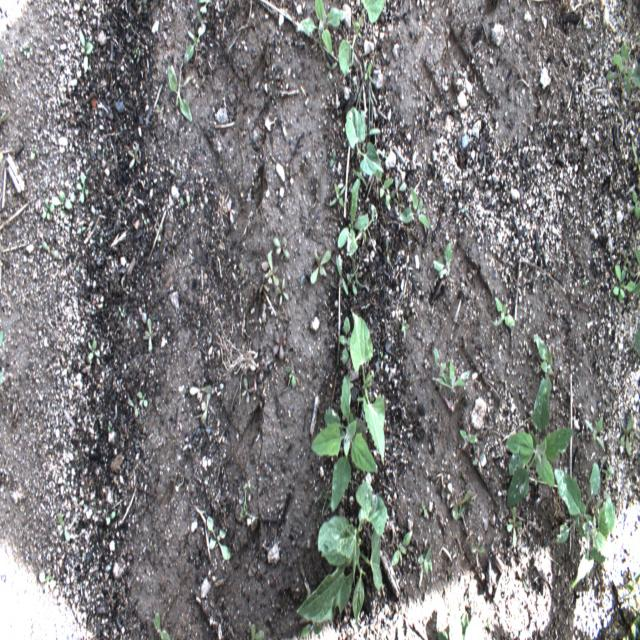crop: (295, 480, 387, 627), (350, 310, 385, 464), (338, 0, 386, 78), (345, 107, 383, 176)
weed: (311, 375, 378, 513), (505, 379, 573, 509), (554, 462, 615, 589), (299, 0, 345, 57), (336, 181, 368, 255), (604, 41, 640, 98), (433, 347, 471, 398), (168, 61, 194, 122), (533, 333, 555, 403), (622, 568, 640, 640), (448, 490, 476, 536), (399, 188, 430, 228), (205, 515, 231, 562), (184, 24, 206, 68), (612, 265, 636, 304), (238, 480, 260, 521), (432, 240, 454, 280), (492, 294, 516, 329), (390, 529, 412, 567), (310, 248, 332, 286), (584, 414, 605, 452), (338, 316, 353, 364), (506, 507, 523, 548), (618, 415, 634, 458), (376, 170, 392, 212), (52, 190, 75, 219), (335, 255, 349, 297), (328, 180, 348, 208), (153, 610, 172, 639), (200, 390, 214, 425), (417, 545, 432, 577), (143, 318, 157, 352), (56, 511, 71, 542), (76, 172, 90, 205), (78, 28, 94, 56), (627, 188, 640, 222), (126, 142, 141, 171), (272, 329, 286, 360), (272, 237, 290, 261), (631, 249, 640, 296), (268, 251, 280, 286), (391, 177, 407, 203), (189, 384, 212, 402), (458, 428, 478, 448), (284, 363, 298, 390), (630, 322, 640, 358), (472, 446, 486, 471), (246, 621, 265, 639), (242, 378, 255, 404), (87, 338, 101, 362), (41, 196, 54, 221), (277, 278, 289, 305), (469, 535, 486, 554), (42, 241, 59, 259), (346, 271, 358, 296), (591, 499, 601, 529), (362, 60, 374, 83), (19, 41, 33, 60), (400, 316, 410, 342), (301, 624, 322, 636), (632, 142, 640, 172), (326, 60, 338, 80), (622, 264, 636, 280), (603, 462, 614, 482), (239, 261, 249, 282), (260, 273, 270, 293), (105, 510, 116, 528), (137, 390, 148, 408), (155, 105, 166, 123), (196, 10, 208, 26), (385, 237, 392, 264), (419, 498, 428, 518), (29, 146, 40, 162), (129, 399, 138, 418), (623, 250, 632, 268), (461, 613, 468, 636), (199, 0, 211, 13), (0, 110, 10, 125), (329, 149, 336, 170), (533, 471, 542, 487), (180, 194, 190, 208), (376, 351, 387, 363), (141, 210, 148, 228), (200, 506, 209, 520), (436, 629, 448, 639), (117, 304, 125, 318), (98, 230, 104, 248), (0, 327, 5, 347), (389, 10, 395, 26), (0, 50, 4, 73), (136, 49, 141, 65), (107, 421, 113, 434), (153, 216, 159, 228), (45, 572, 52, 582), (0, 370, 4, 387), (575, 429, 582, 438), (125, 22, 132, 30), (140, 0, 148, 7), (134, 49, 138, 59), (202, 49, 206, 54)
